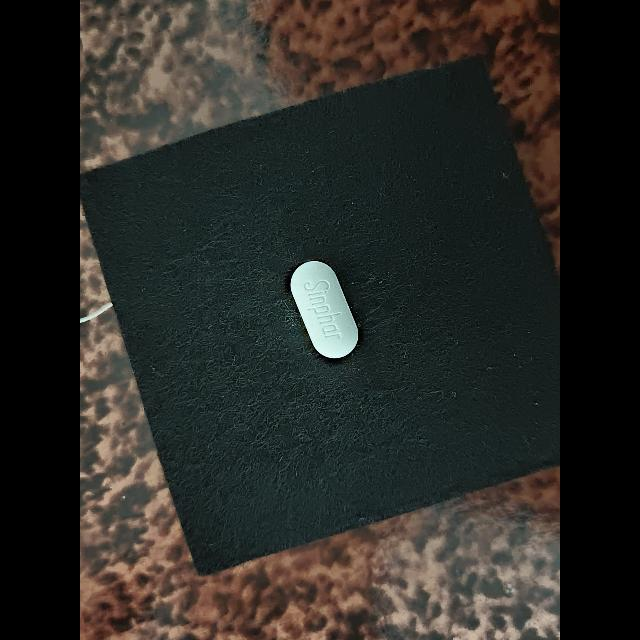Intact Pill: (291, 261, 358, 358)
